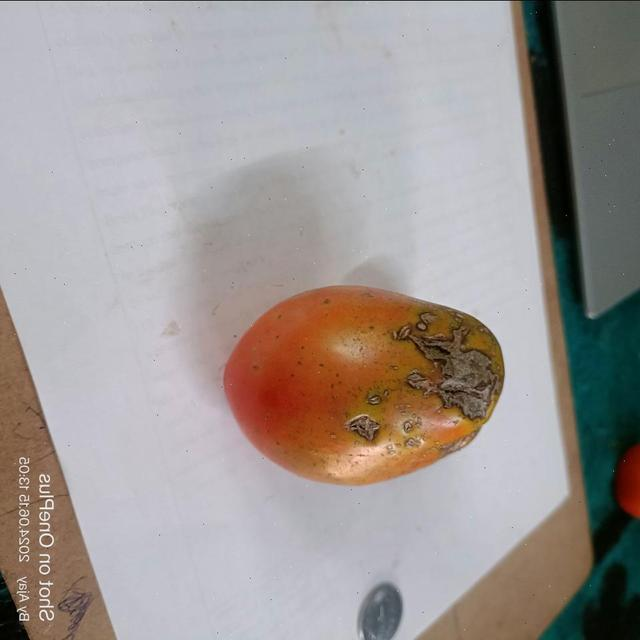Bacterial Spot Fruit: (2, 2, 315, 299)
